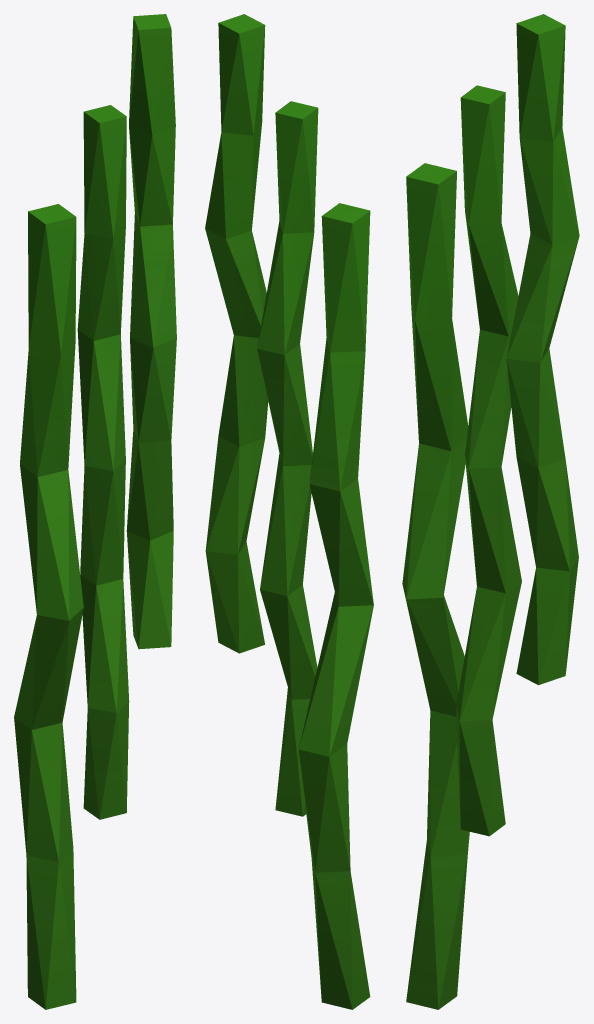
File: vine_strands.glb
3 renders of one model, left to right at view 1: azimuth 30°, elevation 25°; view 2: azimuth 150°, elevation 25°; view 3: azimuth 330°, elevation 25°, orthographic. The views are drawn at different scales.
Parts seen in each view (by area): view 1: Vine_A_1; view 2: Vine_A_1; view 3: Vine_A_1.
Part boxes in pixels (x1,y1,x2,y2): Vine_A_1: (14,14,176,1009); Vine_A_1: (205,14,373,1009); Vine_A_1: (402,14,579,1009).
Bounding box in the file's own units: 0.2636 × 1.6 × 0.1464.
Materials: 1 (1 with a texture image).
